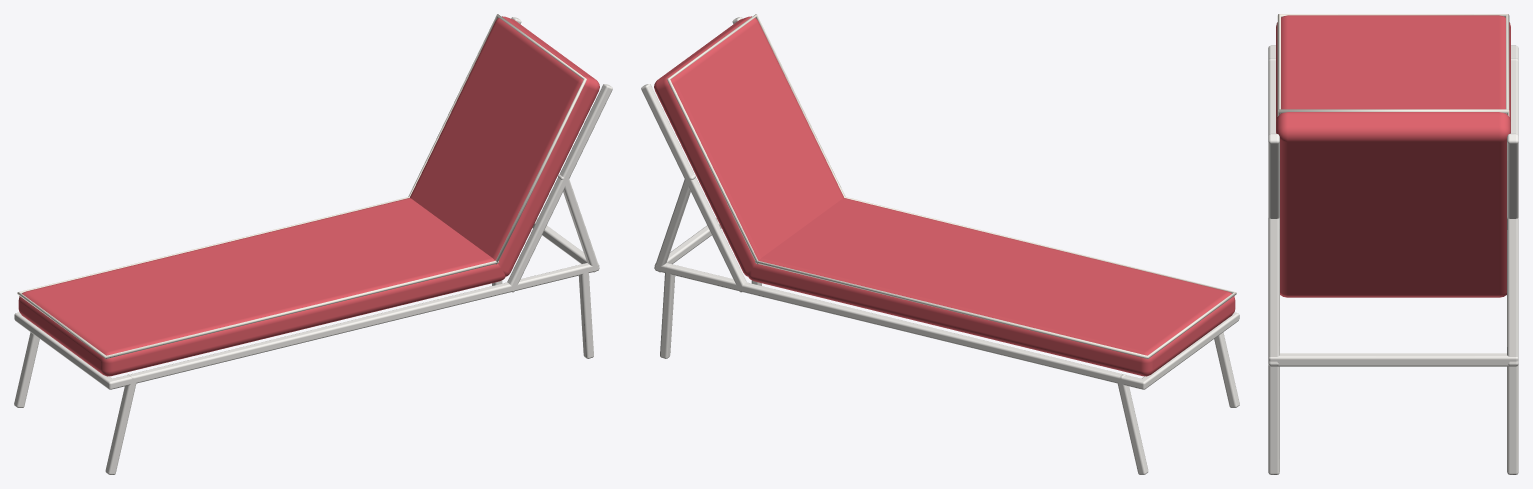
Rendered from PoolLounger.fbx.
The picture shows the model from 3 angles, left to right: view 1: azimuth 30°, elevation 25°; view 2: azimuth 150°, elevation 25°; view 3: azimuth 270°, elevation 25°; orthographic projection. The views are drawn at different scales.
Parts seen in each view (by area): view 1: lounger_cushion_seat, lounger_cushion_back, lounger_rail, lounger_piping_seat, lounger_back_rail, lounger_piping_back, lounger_leg_foot, lounger_cross, lounger_leg_head, lounger_strut, lounger_leg_foot.001, lounger_cross.001; view 2: lounger_cushion_seat, lounger_cushion_back, lounger_rail.001, lounger_piping_seat, lounger_back_rail.001, lounger_piping_back, lounger_cross, lounger_leg_foot.001, lounger_strut.001, lounger_leg_head.001, lounger_leg_foot, lounger_cross.001; view 3: lounger_cushion_back, lounger_cushion_seat, lounger_cross.001, lounger_strut, lounger_strut.001, lounger_leg_head, lounger_leg_head.001, lounger_piping_seat, lounger_back_rail, lounger_back_rail.001, lounger_rail, lounger_piping_back (+1 smaller).
Boxes of the visible parts, bbox=[...] form: lounger_cushion_seat: bbox=[18, 198, 505, 376]; lounger_cushion_back: bbox=[410, 16, 599, 276]; lounger_rail: bbox=[106, 263, 594, 389]; lounger_piping_seat: bbox=[17, 197, 498, 358]; lounger_back_rail: bbox=[507, 84, 612, 292]; lounger_piping_back: bbox=[408, 14, 586, 264]; lounger_leg_foot: bbox=[105, 374, 136, 474]; lounger_cross: bbox=[14, 312, 115, 389]; lounger_leg_head: bbox=[578, 263, 593, 358]; lounger_strut: bbox=[558, 174, 599, 272]; lounger_leg_foot.001: bbox=[14, 332, 39, 407]; lounger_cross.001: bbox=[532, 218, 599, 271]; lounger_cushion_seat: bbox=[748, 198, 1235, 376]; lounger_cushion_back: bbox=[654, 16, 843, 276]; lounger_rail.001: bbox=[659, 263, 1147, 388]; lounger_piping_seat: bbox=[755, 197, 1236, 358]; lounger_back_rail.001: bbox=[641, 84, 746, 292]; lounger_piping_back: bbox=[667, 14, 845, 264]; lounger_cross: bbox=[1138, 314, 1239, 389]; lounger_leg_foot.001: bbox=[1117, 374, 1148, 474]; lounger_strut.001: bbox=[654, 174, 695, 272]; lounger_leg_head.001: bbox=[660, 263, 675, 358]; lounger_leg_foot: bbox=[1214, 332, 1239, 407]; lounger_cross.001: bbox=[654, 218, 721, 271]; lounger_cushion_back: bbox=[1276, 112, 1510, 296]; lounger_cushion_seat: bbox=[1276, 15, 1510, 297]; lounger_cross.001: bbox=[1269, 353, 1518, 366]; lounger_strut: bbox=[1268, 217, 1279, 365]; lounger_strut.001: bbox=[1507, 217, 1518, 365]; lounger_leg_head: bbox=[1268, 365, 1279, 474]; lounger_leg_head.001: bbox=[1507, 365, 1518, 474]; lounger_piping_seat: bbox=[1277, 14, 1509, 109]; lounger_back_rail: bbox=[1268, 133, 1279, 218]; lounger_back_rail.001: bbox=[1507, 133, 1518, 218]; lounger_rail: bbox=[1268, 45, 1276, 366]; lounger_piping_back: bbox=[1277, 109, 1509, 116].
Size of the model in its own units: 1.95 by 1.02 by 0.64.
